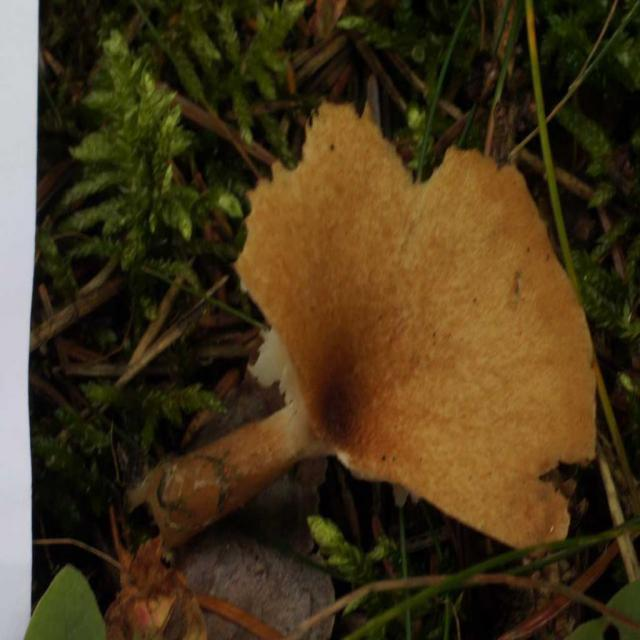Clitocybe maxima: (96, 100, 596, 592)
